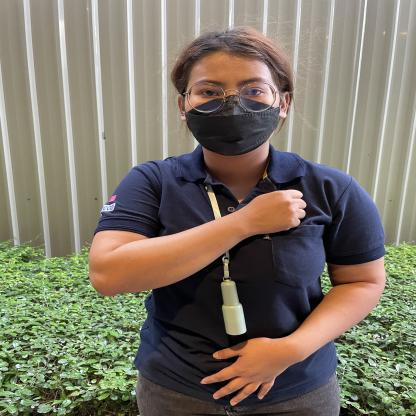Sadness: (83, 174, 344, 298)
